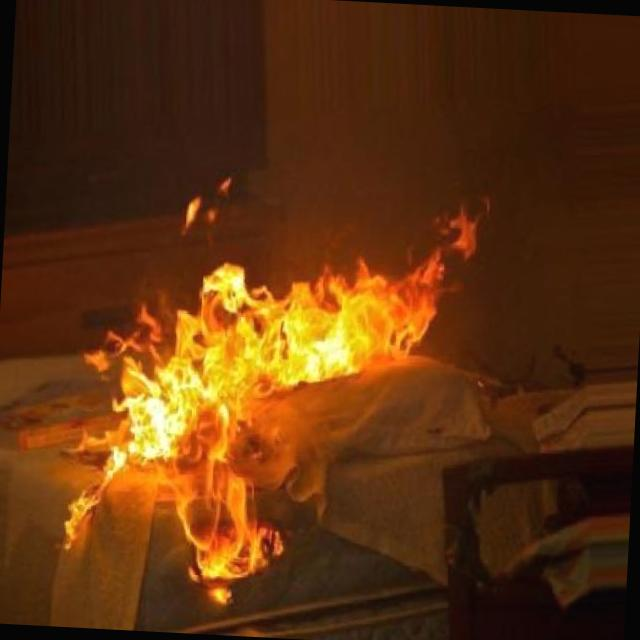fire: (25, 157, 542, 613)
